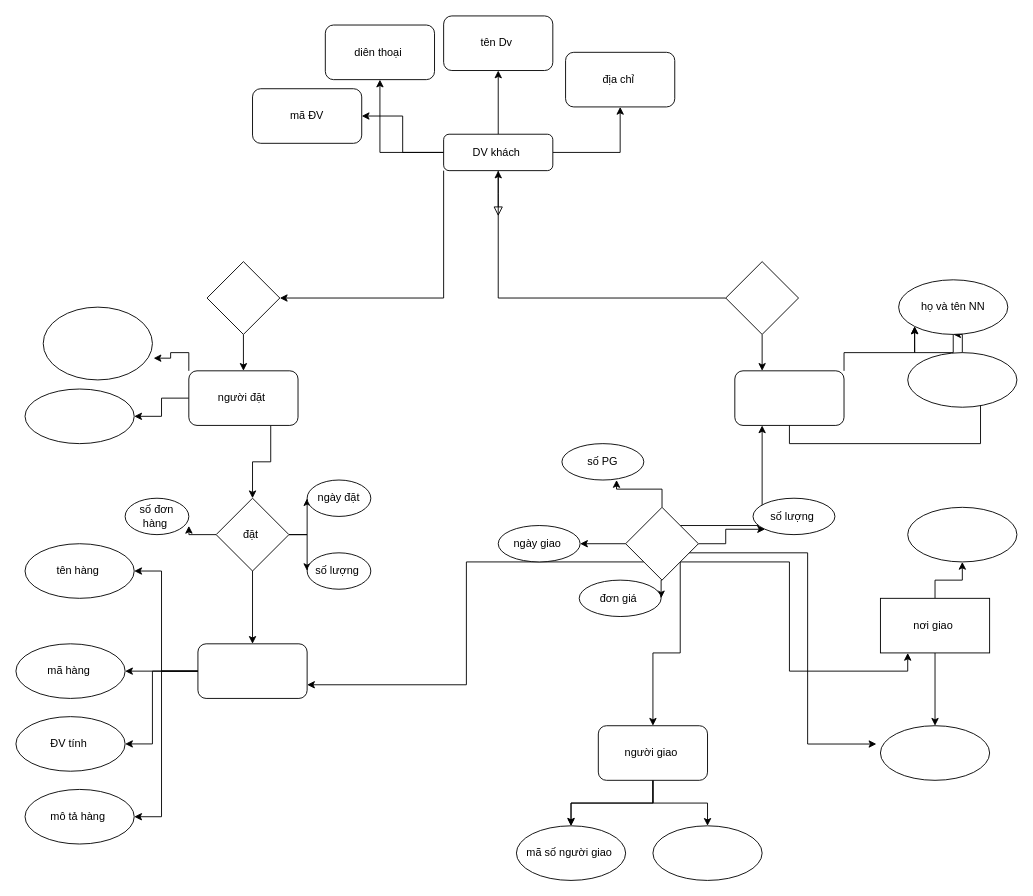
Some shapes in this 1033 by 896 pixel diagram are drawn without their labels. The box of each missing label's shape, as (x1, y1, x2, y2) in pixels:
giao: (625, 506, 698, 580)
hàng: (197, 643, 307, 698)
họ tên người giao: (652, 825, 762, 880)
họ và tên NĐ: (24, 388, 134, 444)
mã số DDG: (880, 725, 990, 780)
mã số NN: (907, 352, 1017, 407)
mã số NĐ: (42, 306, 152, 380)
nười nhận: (734, 370, 844, 425)
thuộc tính 1: (206, 261, 280, 334)
thuộc tính 2: (725, 261, 799, 334)
tên nơi giao: (907, 506, 1017, 562)
